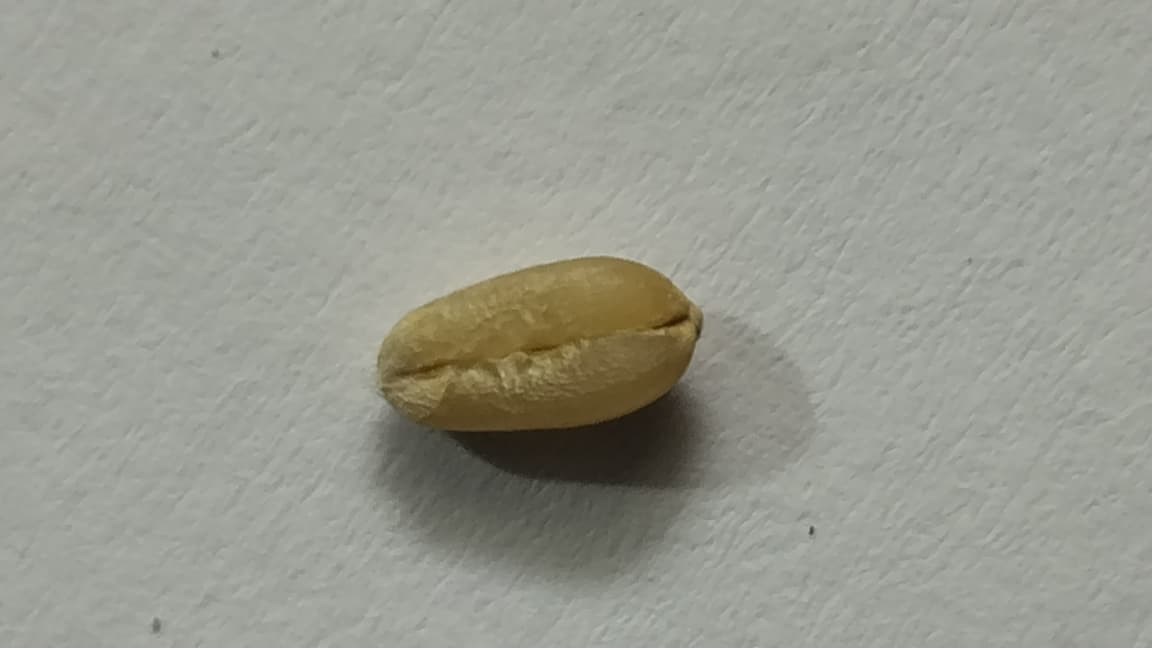healthy: (375, 254, 703, 437)
